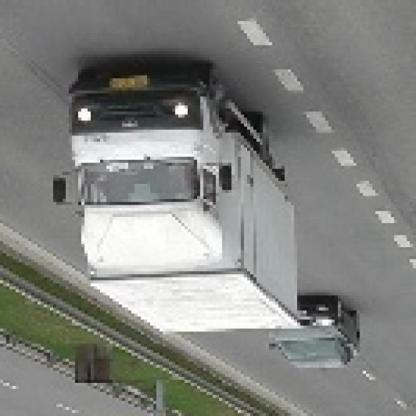truck: (55, 58, 302, 336)
